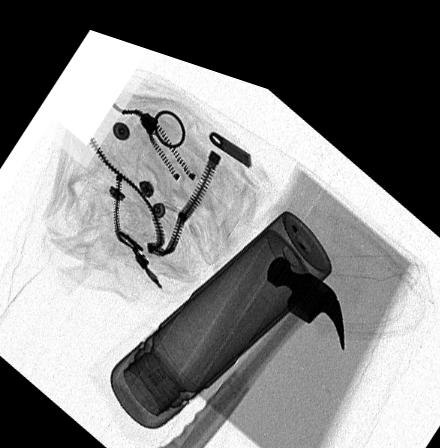Hammer: (148, 236, 345, 448)
